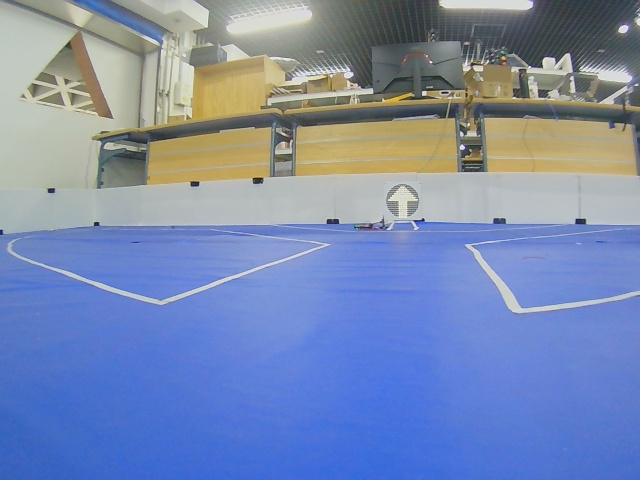straight_yellow: (387, 184, 418, 218)
